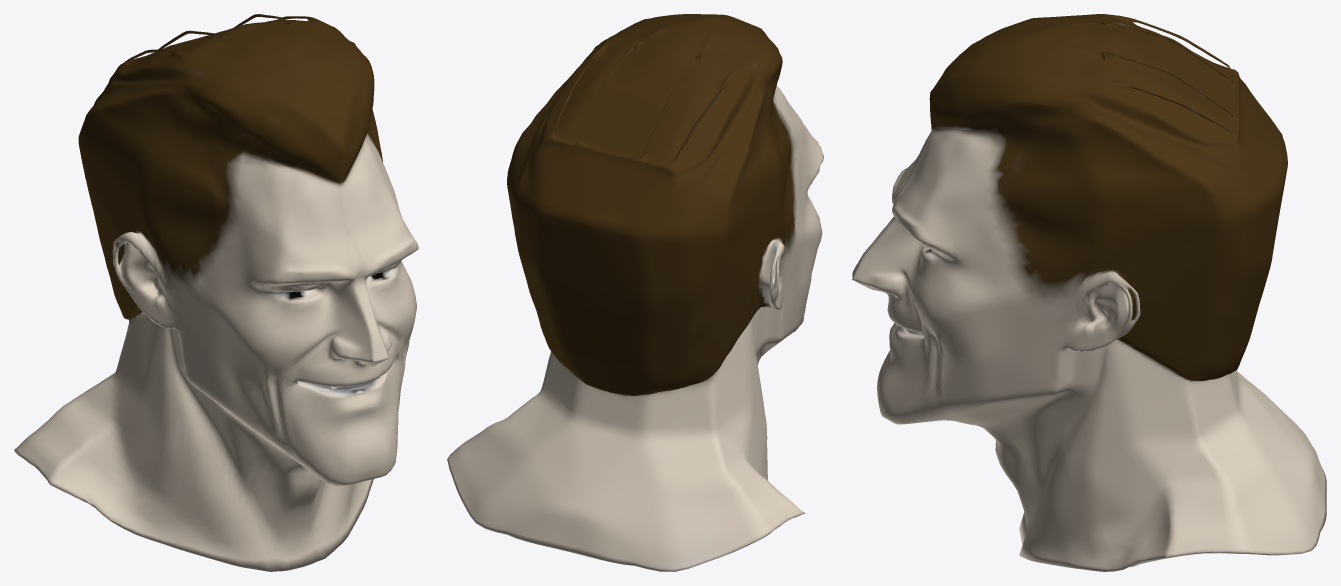
The model's file is ChadFace.glb.
3 views of the same model, side by side, from view 1: azimuth 30°, elevation 25°; view 2: azimuth 150°, elevation 25°; view 3: azimuth 270°, elevation 25° (orthographic). The views are drawn at different scales.
Parts seen in each view (by area): view 1: model; view 2: model; view 3: model.
Part boxes in pixels (<box>): model: <box>14,14,418,571</box>; model: <box>447,14,823,571</box>; model: <box>852,14,1326,571</box>.
Bounding box in the file's own units: 1.35 × 1.9 × 1.59.
